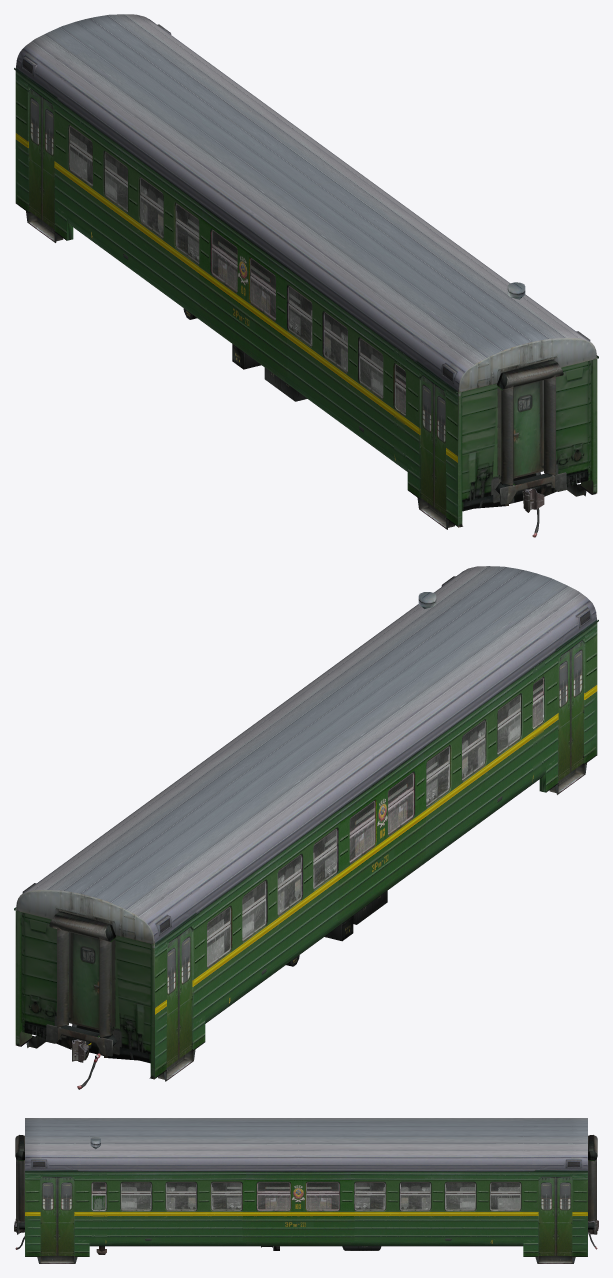
The model's file is 绿皮火车车厢1.fbx.
3 views of the same model, one above another, from view 1: azimuth 30°, elevation 25°; view 2: azimuth 150°, elevation 25°; view 3: azimuth 270°, elevation 25° (orthographic). The views are drawn at different scales.
Visible parts, largest first — view 1: 绿皮火车车厢1; view 2: 绿皮火车车厢1; view 3: 绿皮火车车厢1.
Part boxes in pixels (x1=…): 绿皮火车车厢1: x1=14, y1=14, x2=598, y2=537; 绿皮火车车厢1: x1=14, y1=566, x2=598, y2=1089; 绿皮火车车厢1: x1=14, y1=1118, x2=598, y2=1263.
Bounding box in the file's own units: 359 × 471 × 2008.
